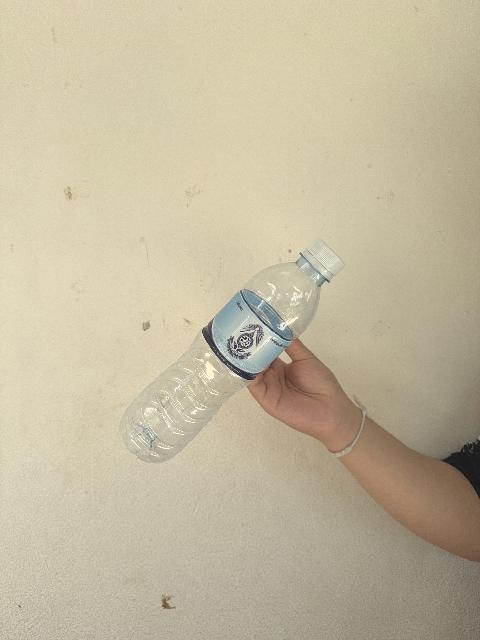bottle: (120, 239, 344, 462)
